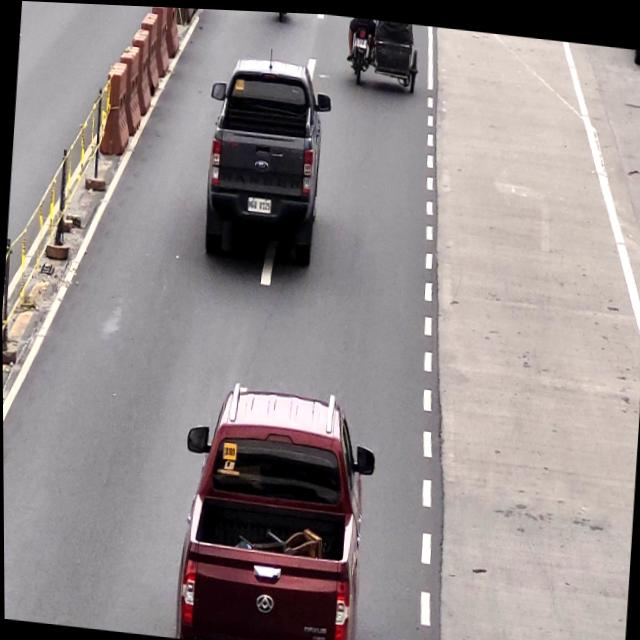Car: (176, 376, 368, 640), (201, 54, 327, 266)
License-Plate: (246, 192, 271, 212), (353, 33, 367, 47)
Tricycle: (345, 13, 420, 91)
